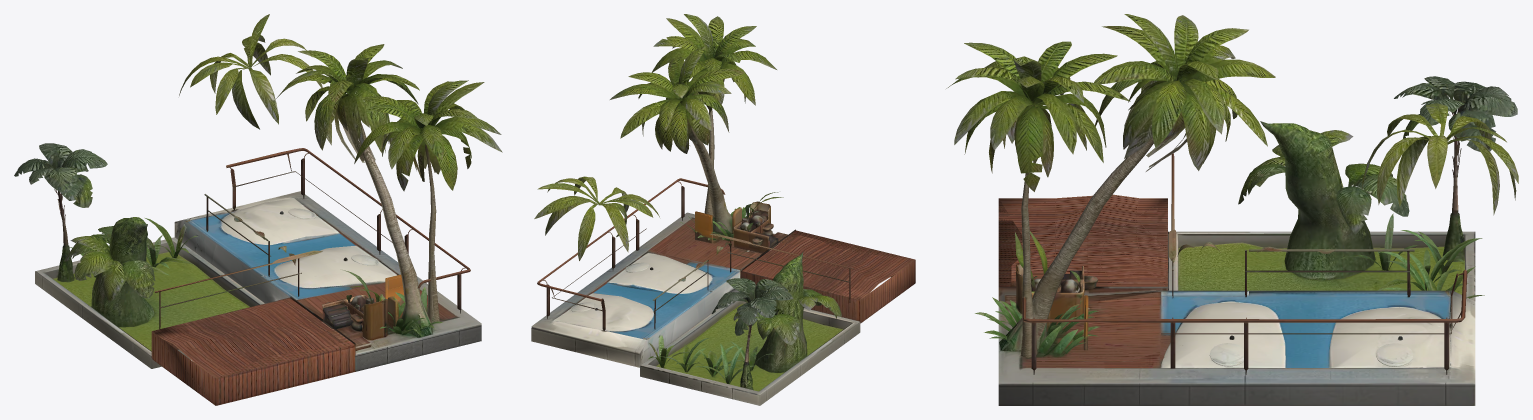
Rendered from tropicalpooldeck.full.glb.
The picture shows the model from 3 angles, left to right: view 1: azimuth 30°, elevation 25°; view 2: azimuth 150°, elevation 25°; view 3: azimuth 270°, elevation 25°; orthographic projection. The views are drawn at different scales.
Parts seen in each view (by area): view 1: model; view 2: model; view 3: model.
Part boxes in pixels (x1,y1,x2,y2): model: (14, 14, 502, 405); model: (531, 14, 915, 405); model: (946, 14, 1518, 405).
Size of the model in its own units: 0.8257 by 0.6919 by 0.9995.
1 material, 1 textured.
